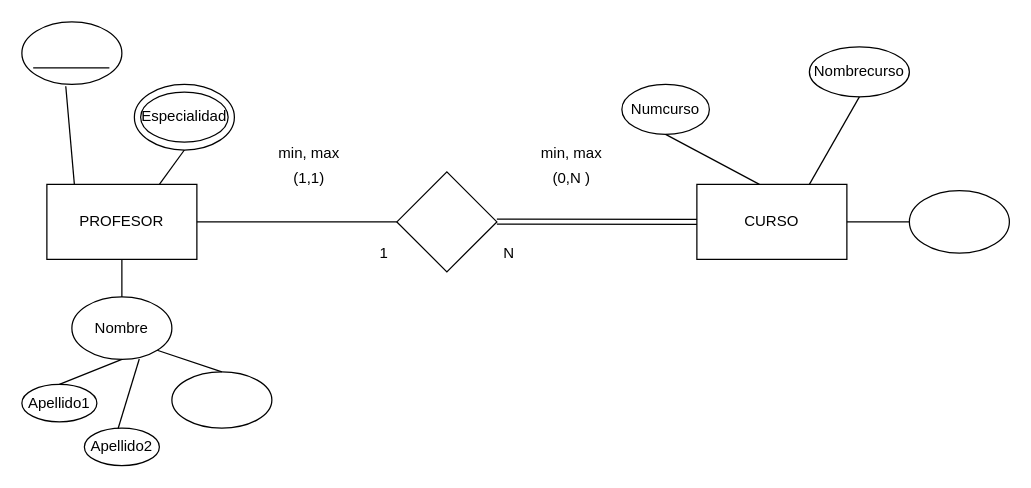
Image size: 1031x488. Some labels were removed from this diagram. The shapes that lost their labels are listed below. From the top down, each one's box as (x1, y1, x2, y2) in pixels, then its label:
(21, 21, 122, 84): Numprofesor
(396, 171, 497, 272): IMPARTE
(908, 189, 1009, 253): Creditos
(171, 371, 272, 428): NomPrincipal
